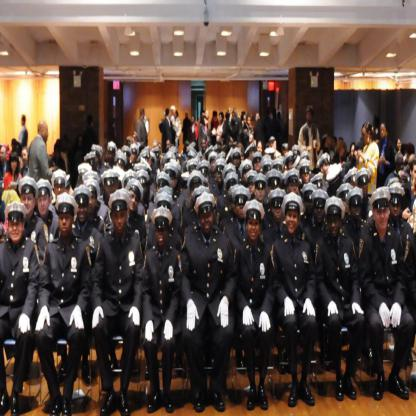face: (60, 209, 73, 238), (376, 203, 390, 229), (113, 207, 127, 233), (9, 215, 23, 241), (287, 208, 299, 234), (201, 207, 213, 233), (22, 189, 34, 215), (248, 215, 260, 240), (329, 214, 341, 236), (39, 192, 50, 215), (236, 198, 248, 219), (315, 201, 326, 222), (107, 180, 118, 201), (391, 198, 401, 221), (86, 189, 96, 212), (157, 224, 167, 246), (78, 200, 88, 222), (274, 201, 284, 222), (192, 181, 202, 202), (129, 191, 139, 212), (55, 180, 65, 201), (270, 183, 280, 203), (352, 199, 362, 218), (290, 178, 299, 199), (306, 194, 315, 214), (342, 193, 351, 213), (80, 172, 89, 191), (257, 183, 266, 201), (167, 172, 174, 194), (361, 179, 369, 195), (217, 167, 225, 183), (244, 166, 252, 181), (139, 184, 147, 199), (202, 171, 209, 188), (303, 167, 310, 183), (363, 129, 370, 145), (249, 178, 256, 194), (323, 161, 330, 176), (118, 161, 125, 176), (42, 126, 49, 141), (212, 156, 219, 170), (93, 152, 100, 165), (109, 148, 115, 163), (234, 153, 240, 167), (22, 151, 29, 163), (399, 159, 404, 175), (382, 125, 388, 138), (271, 139, 277, 151), (255, 159, 261, 171), (12, 158, 18, 170), (146, 157, 152, 168), (132, 149, 137, 162), (289, 161, 294, 173), (1, 149, 6, 161), (56, 149, 61, 161), (412, 182, 416, 196), (258, 144, 263, 155), (413, 167, 416, 184), (202, 140, 207, 150), (307, 112, 312, 122), (252, 151, 256, 163), (352, 148, 356, 159), (340, 150, 345, 158), (154, 144, 159, 152), (167, 142, 171, 151), (79, 138, 83, 147), (398, 141, 401, 150), (332, 140, 335, 149), (244, 116, 247, 124), (220, 115, 223, 123), (250, 135, 253, 142), (215, 114, 218, 121), (206, 112, 209, 119), (14, 144, 17, 151), (248, 118, 251, 124), (192, 118, 195, 124), (175, 113, 177, 118)
